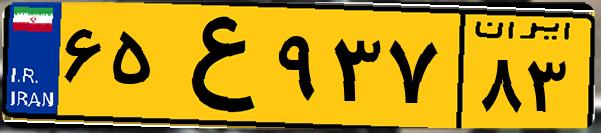3: (330, 28, 385, 110), (525, 38, 570, 115)
5: (110, 28, 158, 98)
6: (57, 26, 110, 100)
7: (385, 28, 445, 110)
8: (475, 38, 525, 113)
9: (270, 28, 330, 110)
ع: (158, 12, 270, 120)
